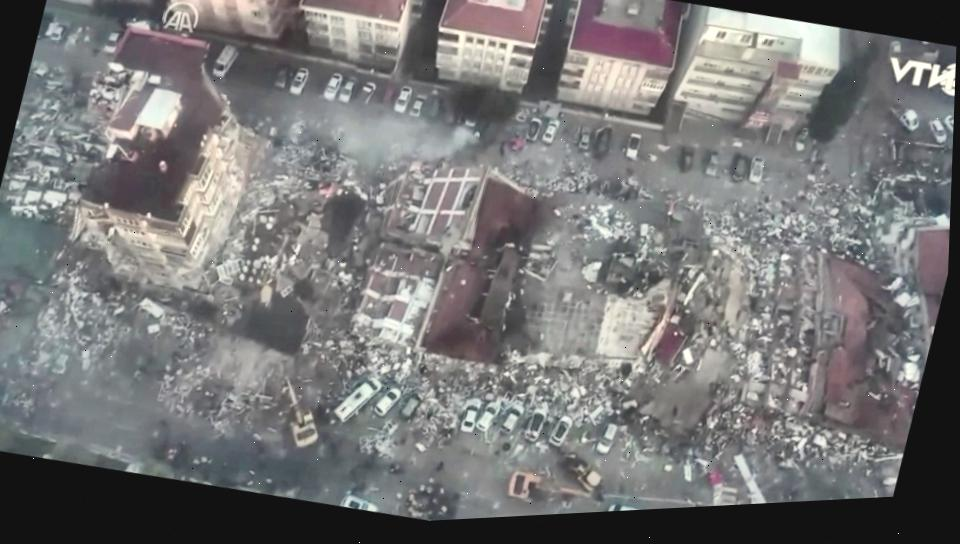kapali: (0, 272, 171, 458)
